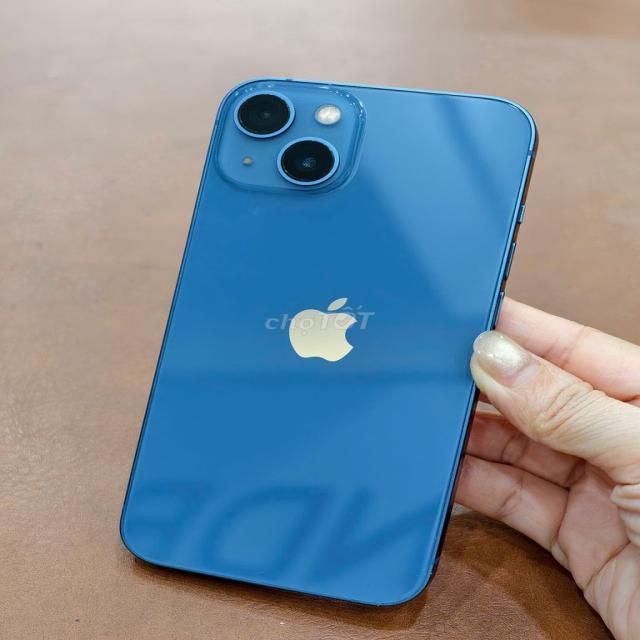gen_12_13: (117, 72, 550, 612)
